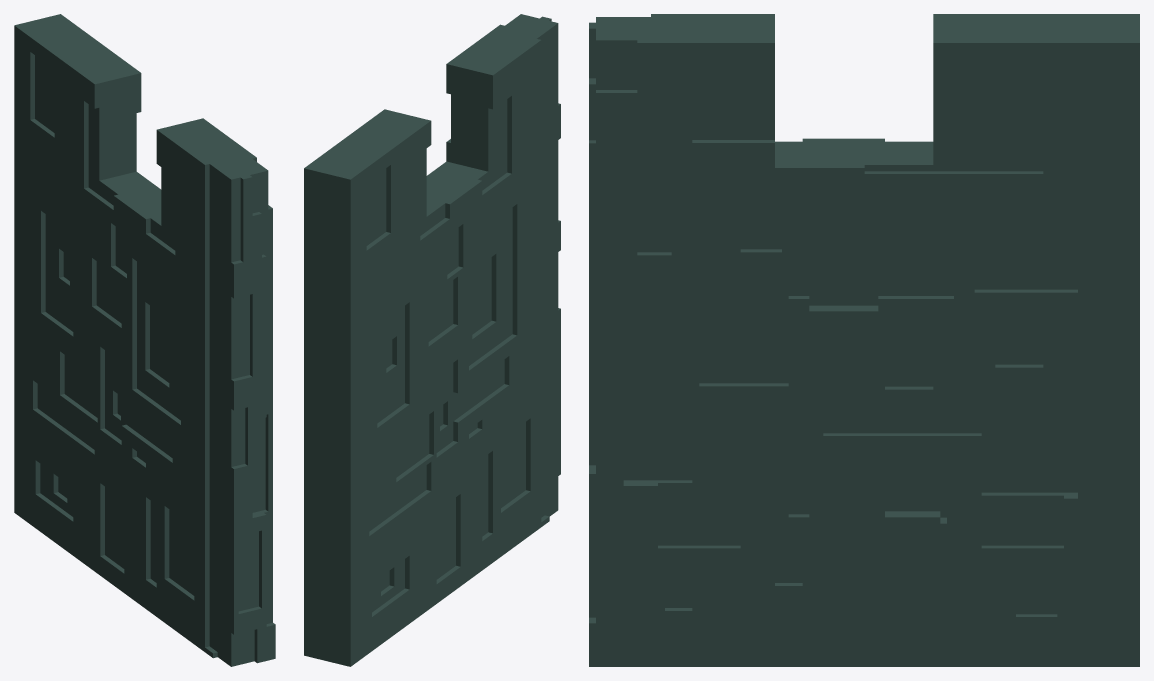
The model's file is wallUp.obj.
3 views of the same model, side by side, from view 1: azimuth 30°, elevation 25°; view 2: azimuth 150°, elevation 25°; view 3: azimuth 270°, elevation 25° (orthographic). The views are drawn at different scales.
Size of the model in its own units: 1 by 10 by 8.
1 material, 1 textured.
